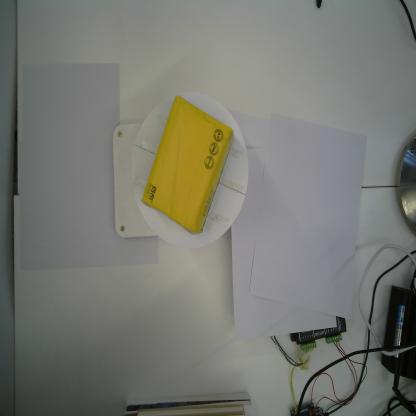Tissue: (140, 95, 235, 234)
